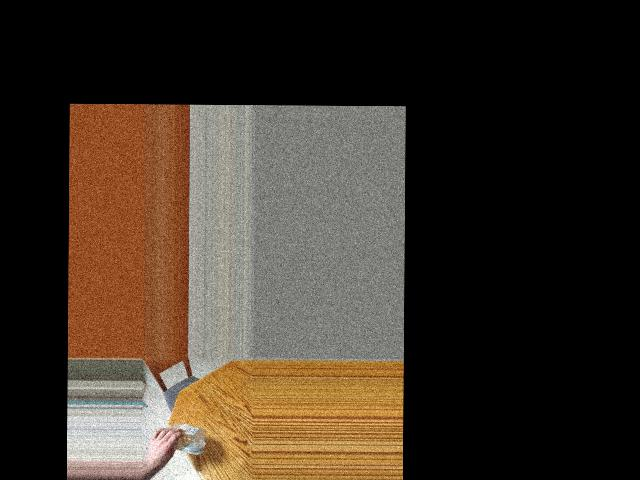cheese: (153, 421, 197, 458)
